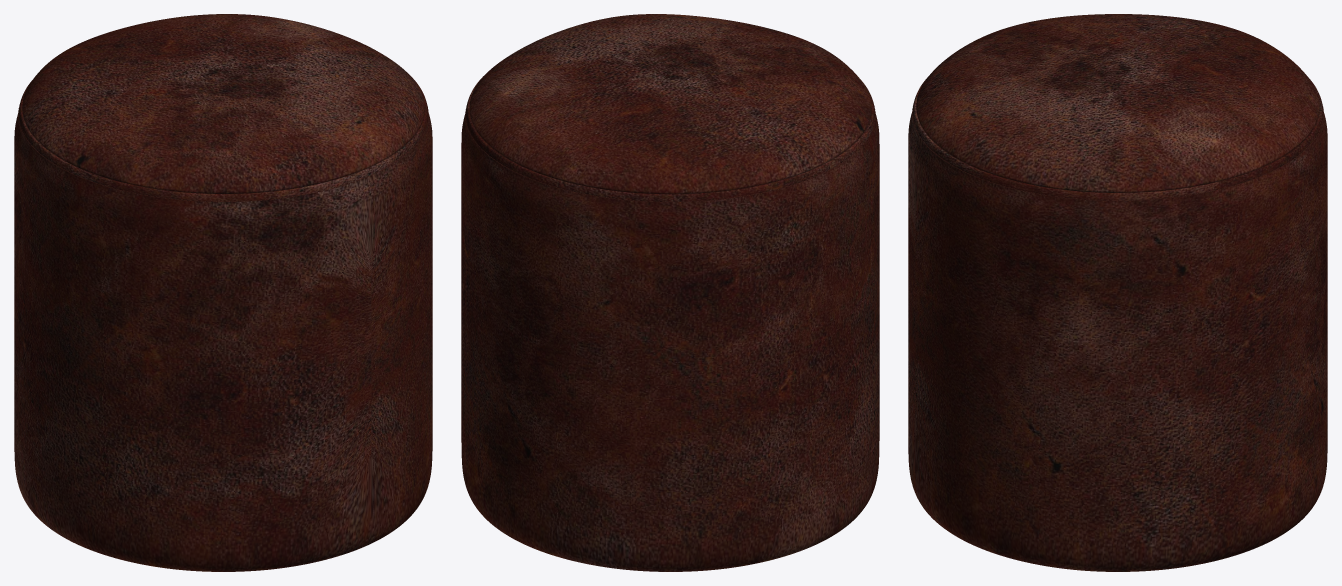
Rendered from concord_style_completion_ottoman.glb.
The picture shows the model from 3 angles, left to right: view 1: azimuth 30°, elevation 25°; view 2: azimuth 150°, elevation 25°; view 3: azimuth 270°, elevation 25°; orthographic projection.
Parts seen in each view (by area): view 1: base; view 2: base, shof; view 3: base.
Part boxes in pixels (box(x1,y1,x2,y2)): base: box(14, 14, 432, 571); base: box(461, 14, 879, 571); shof: box(465, 106, 875, 202); base: box(908, 14, 1327, 571).
Bounding box in the file's own units: 0.3923 × 0.4392 × 0.3923.
Materials: 1 (1 with a texture image).
